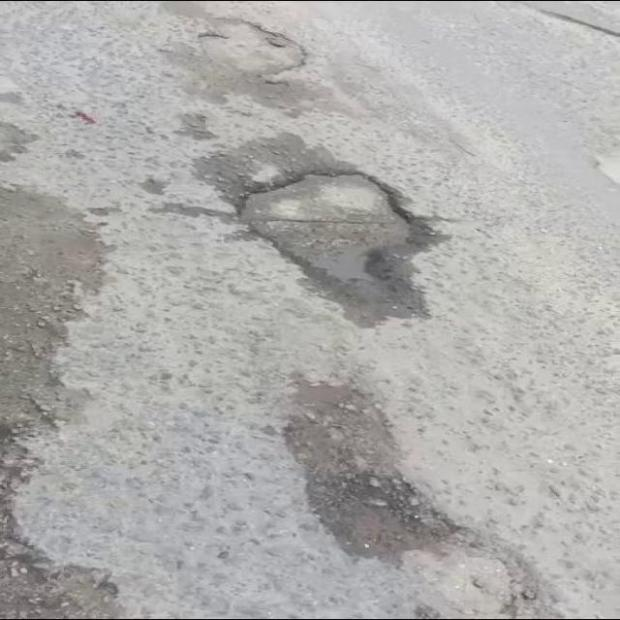lubang: (0, 187, 119, 617), (221, 135, 443, 311), (285, 382, 473, 559), (197, 19, 305, 80)
